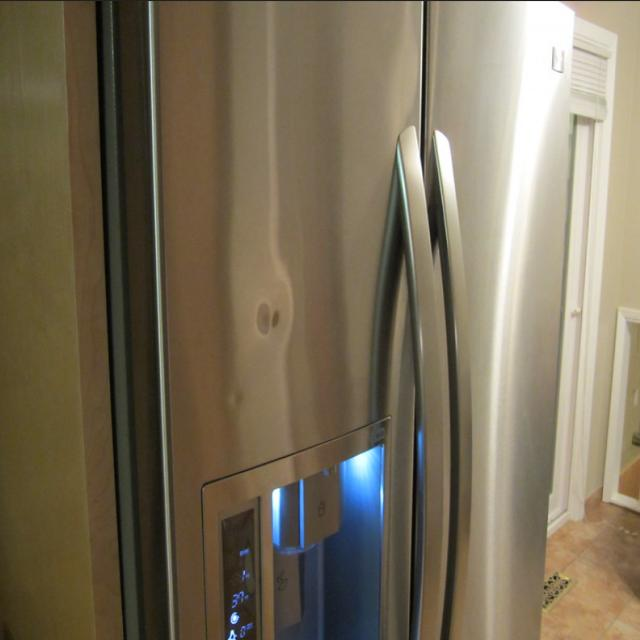dents: (251, 298, 306, 359), (217, 367, 256, 423)
